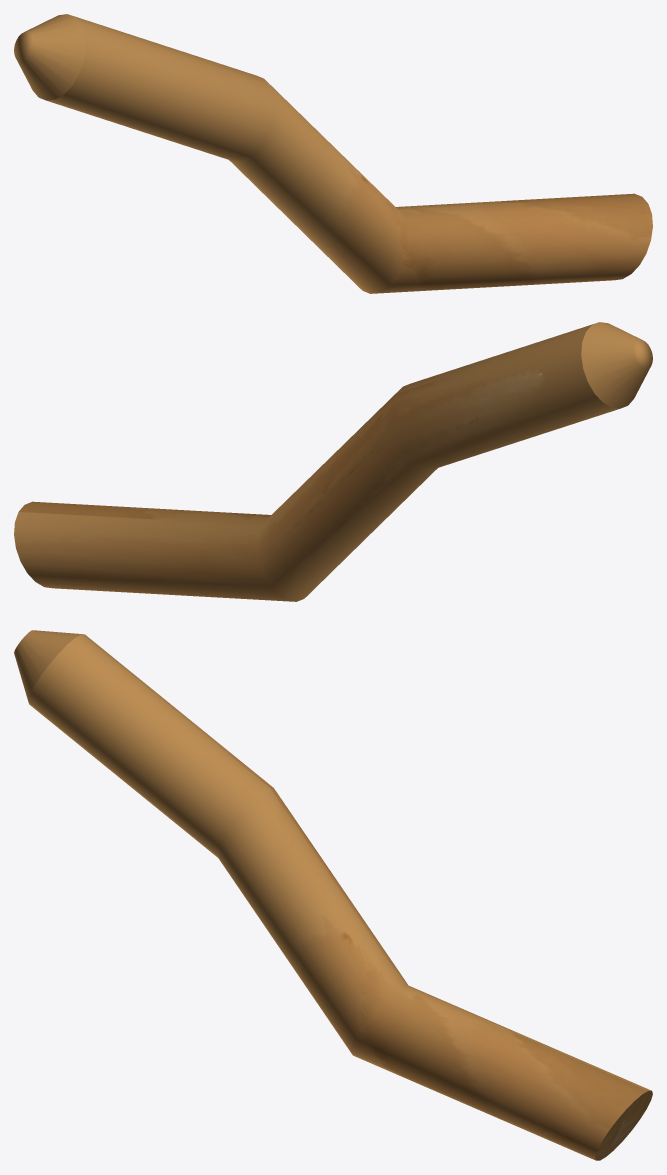
File: Branch1.fbx
The picture shows the model from 3 angles, top to bottom: view 1: azimuth 30°, elevation 25°; view 2: azimuth 150°, elevation 25°; view 3: azimuth 330°, elevation 25°; orthographic projection.
Visible parts, largest first — view 1: pCylinder3; view 2: pCylinder3; view 3: pCylinder3.
Boxes of the visible parts, x1,y1,x2,y2 form: pCylinder3: (14,14,652,293); pCylinder3: (14,322,652,601); pCylinder3: (14,630,652,1160).
Bounding box in the file's own units: 3.37 × 2.01 × 0.4176.
